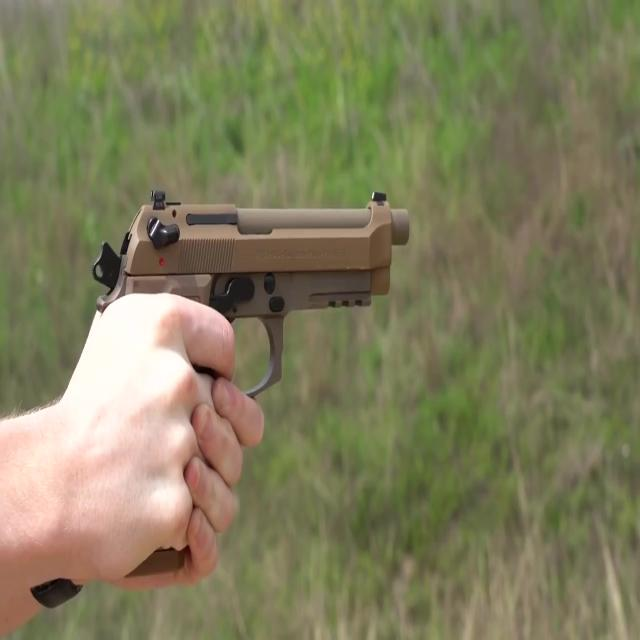Weapon: (74, 162, 434, 594)
